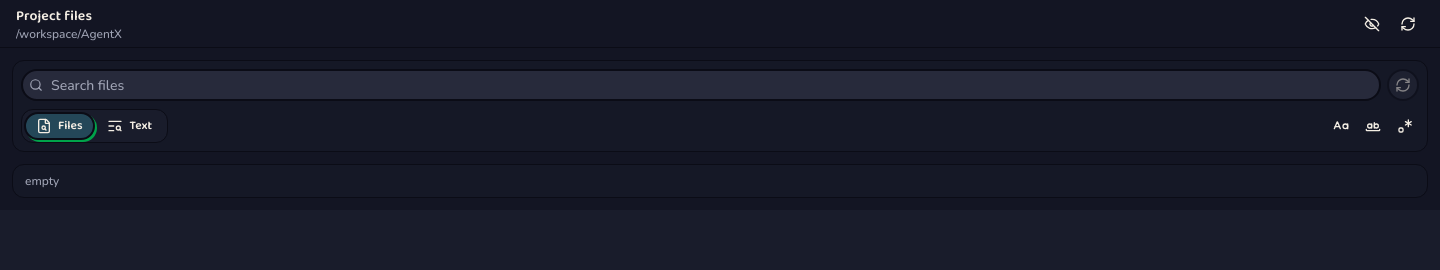
Test: WorkspaceFileEditorPane markdown controls › runs workspace search from the project files pane
Click the button with aria-label "Search file content" at point(130, 126), box [95,112,165,140]
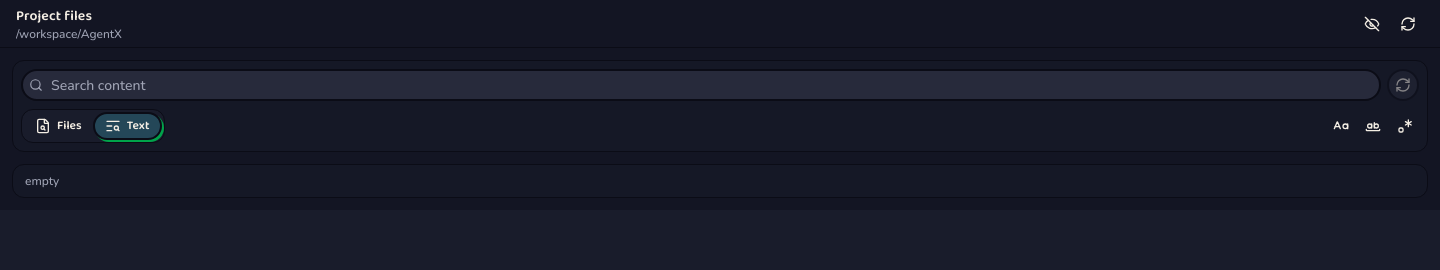
Type "needle" into the field named "Search project files" at point(701, 85), box [21,69,1381,101]
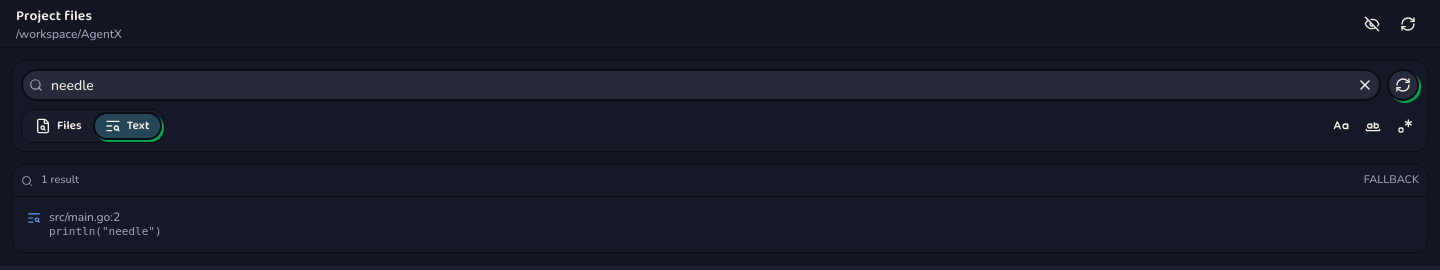
expect the button with aria-label "src/main.go line 2" is shown: met, box [21,205,1419,244]
